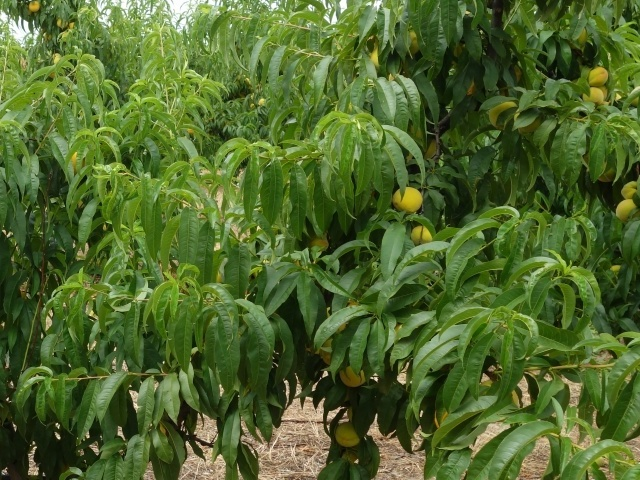peach: (483, 97, 523, 132), (389, 183, 425, 217), (333, 418, 365, 451), (337, 362, 368, 394), (315, 338, 341, 371), (305, 231, 334, 257), (576, 83, 607, 107), (408, 223, 435, 250), (584, 63, 612, 88), (613, 196, 638, 224), (616, 181, 640, 203)
